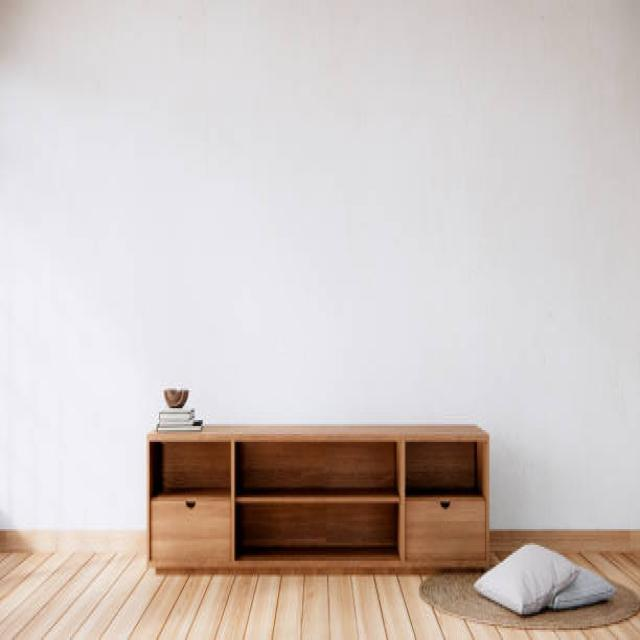table: (146, 422, 490, 575)
